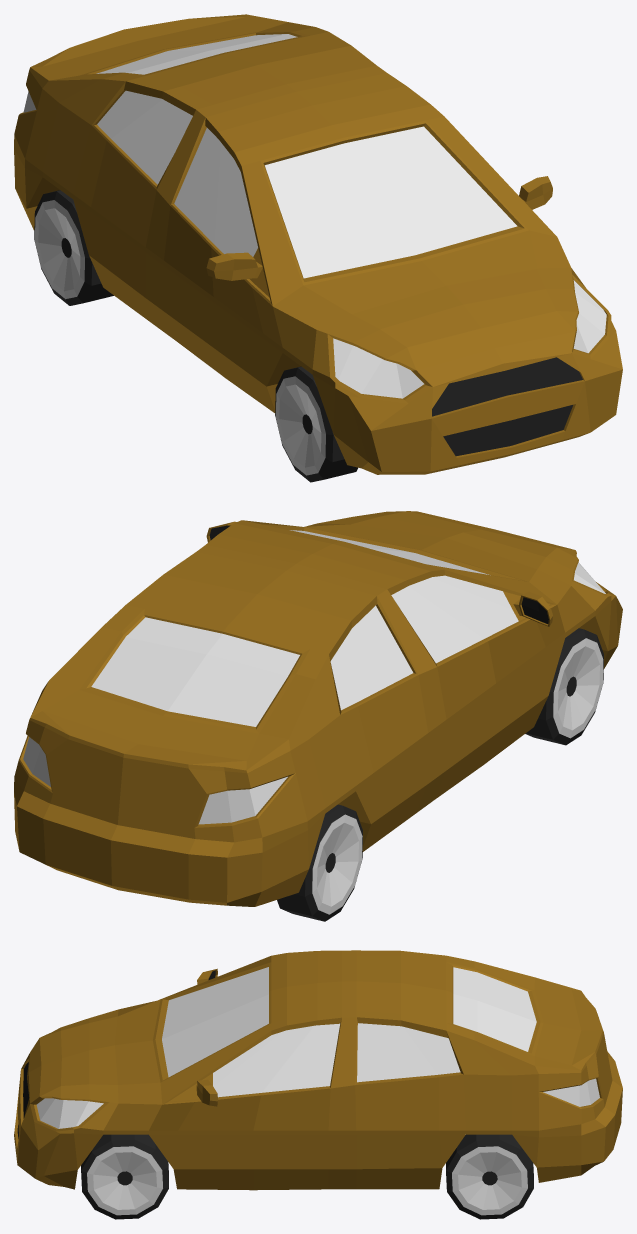
File: 1gold.fbx
3 renders of one model, top to bottom at view 1: azimuth 30°, elevation 25°; view 2: azimuth 150°, elevation 25°; view 3: azimuth 270°, elevation 25°, orthographic. The views are drawn at different scales.
Visible parts, largest first — view 1: Cylinder; view 2: Cylinder; view 3: Cylinder.
Boxes of the visible parts, x1,y1,x2,y2 form: Cylinder: (14, 14, 622, 482); Cylinder: (14, 511, 622, 921); Cylinder: (14, 950, 622, 1219).
Size of the model in its own units: 147 by 101 by 297.
